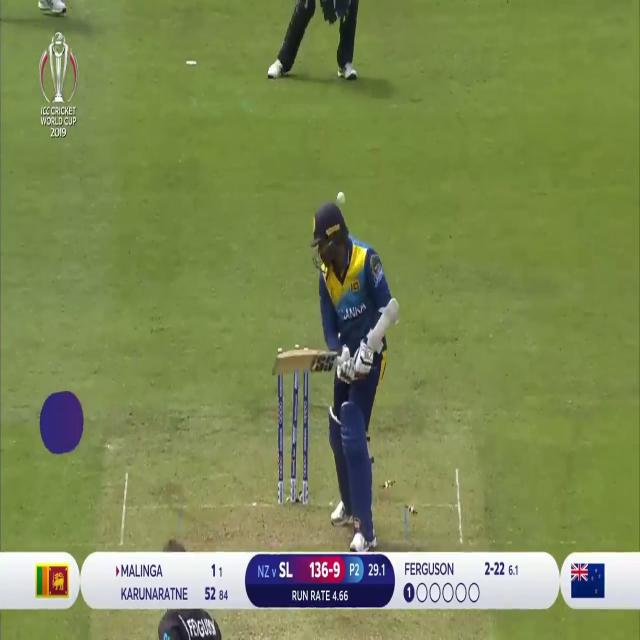ball: (337, 186, 347, 207)
